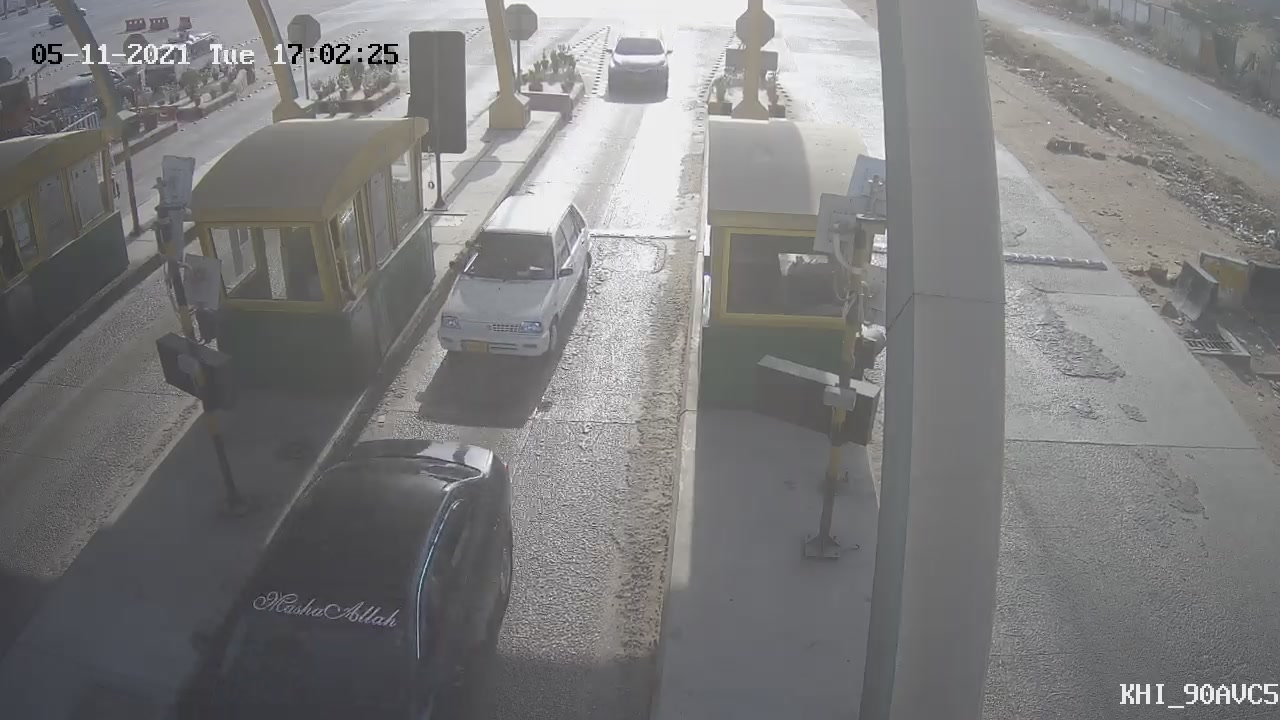F1: (411, 179, 616, 388)
